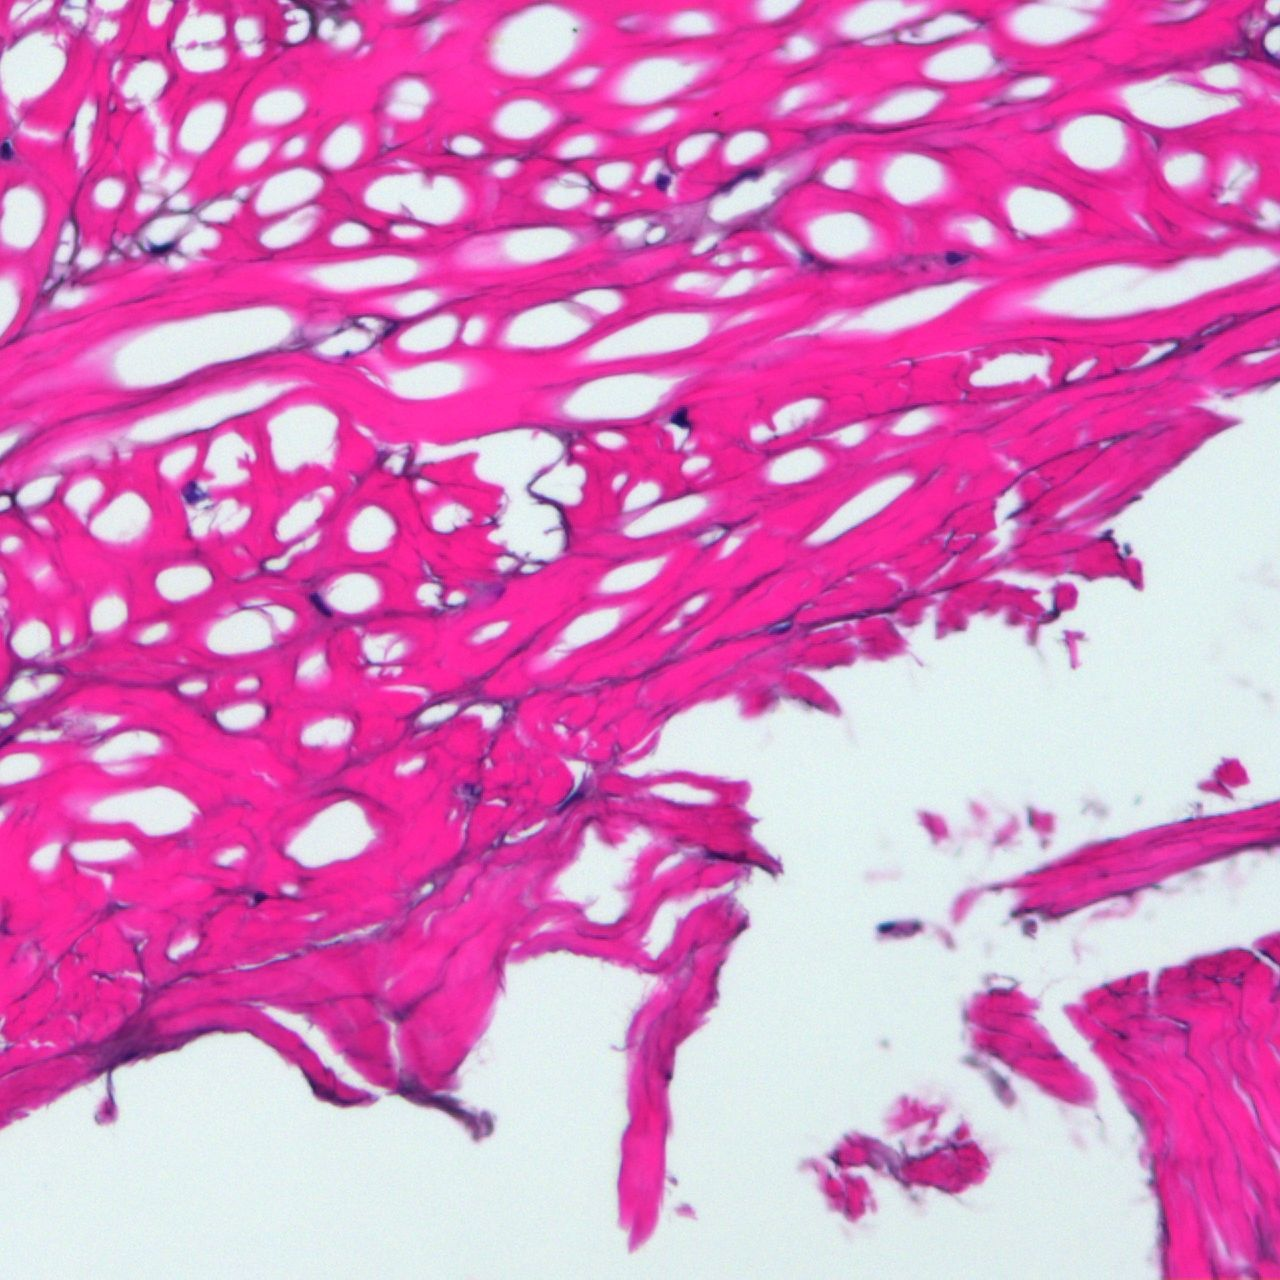nucleus-HE: (305, 588, 335, 621), (669, 404, 694, 428), (651, 171, 673, 193), (150, 241, 173, 256), (182, 481, 198, 501), (945, 252, 964, 265), (878, 922, 893, 932), (256, 892, 266, 901)
